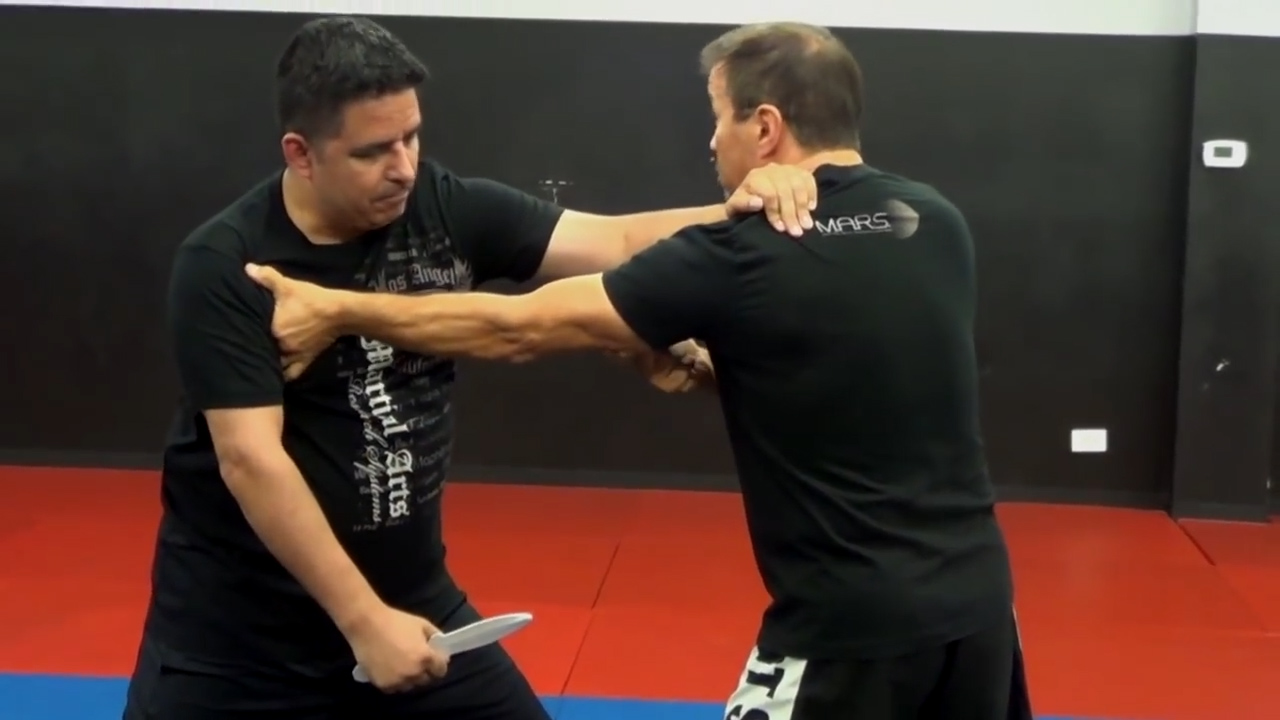knife: (345, 601, 541, 692)
